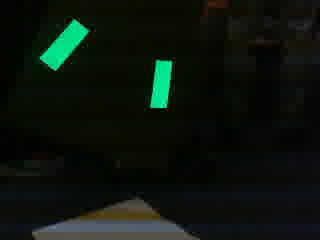target: (38, 18, 177, 111)
